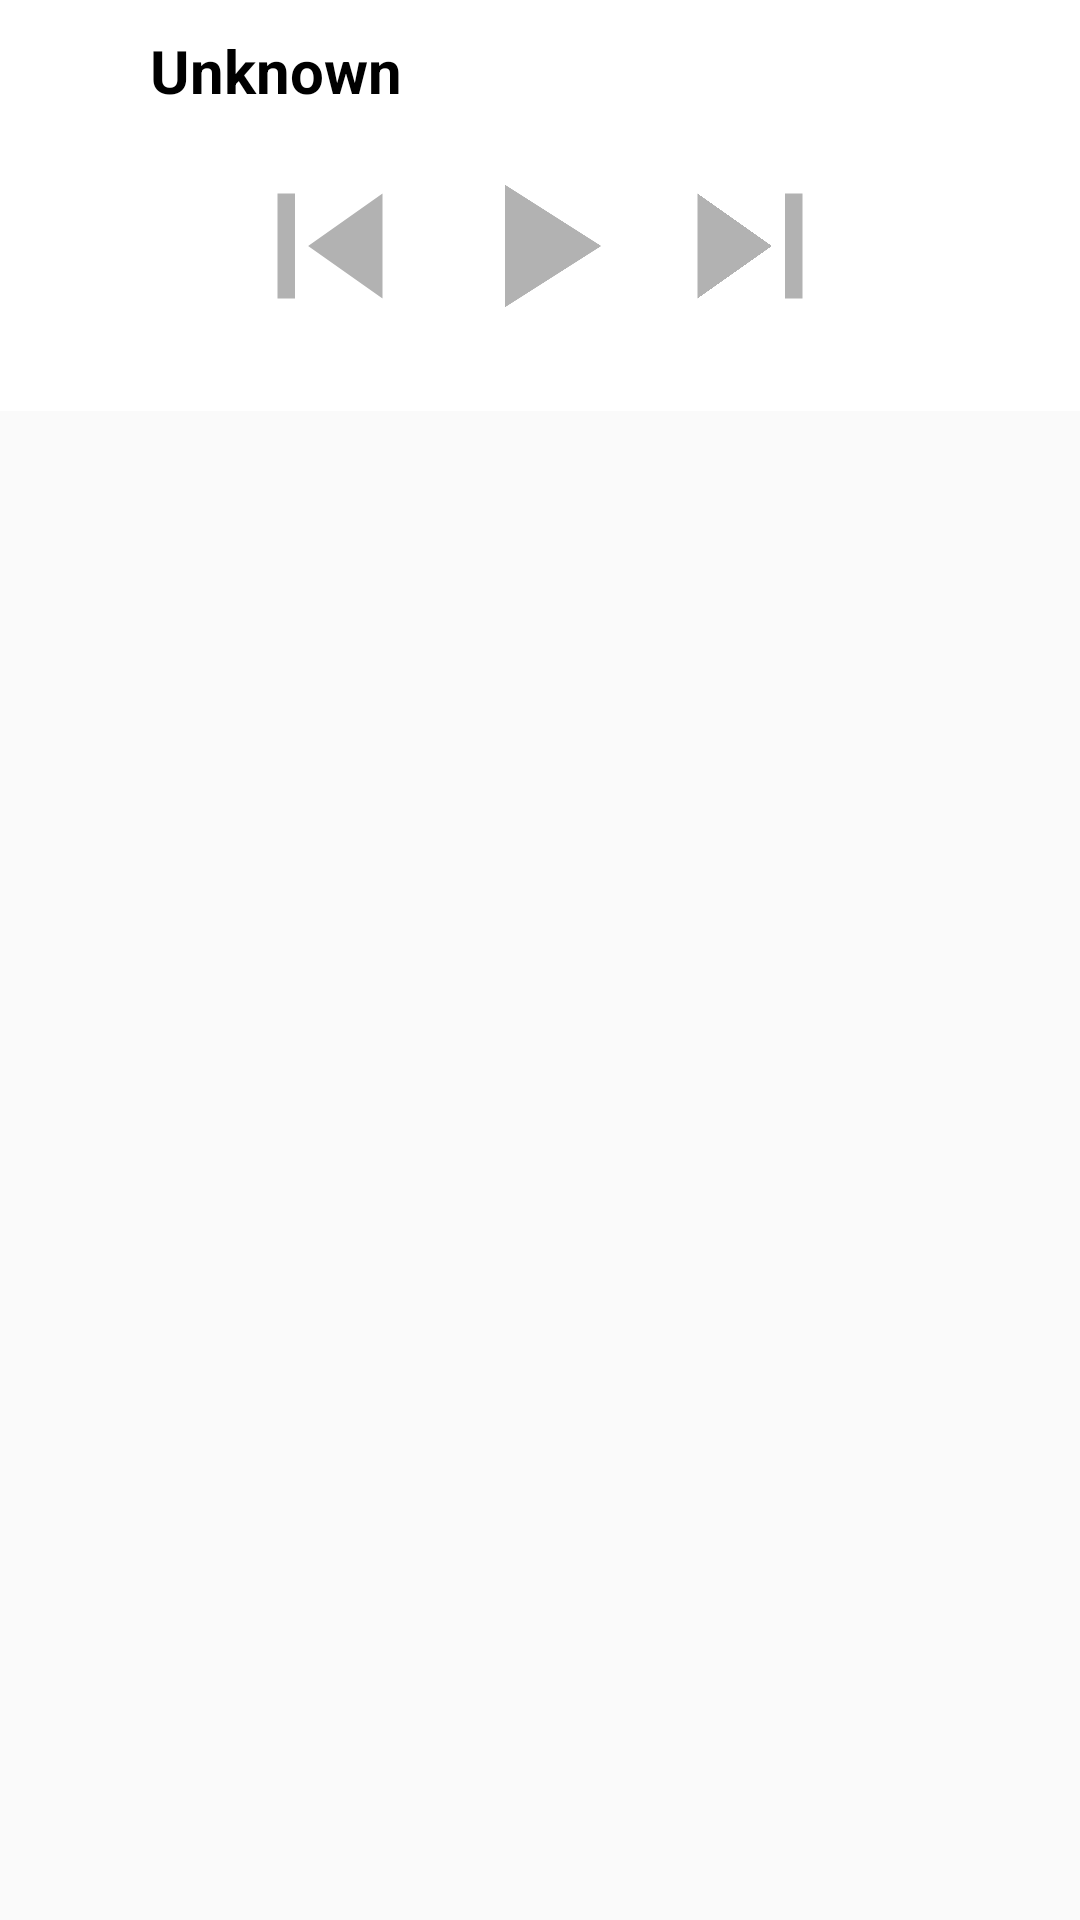

Locate icon controls on the screen. Image size 1080px×1920px, boxes as (x1, y1, x2, y2).
play arrow: (505, 185, 601, 307)
skip next: (697, 193, 803, 299)
skip previous: (277, 193, 383, 299)
